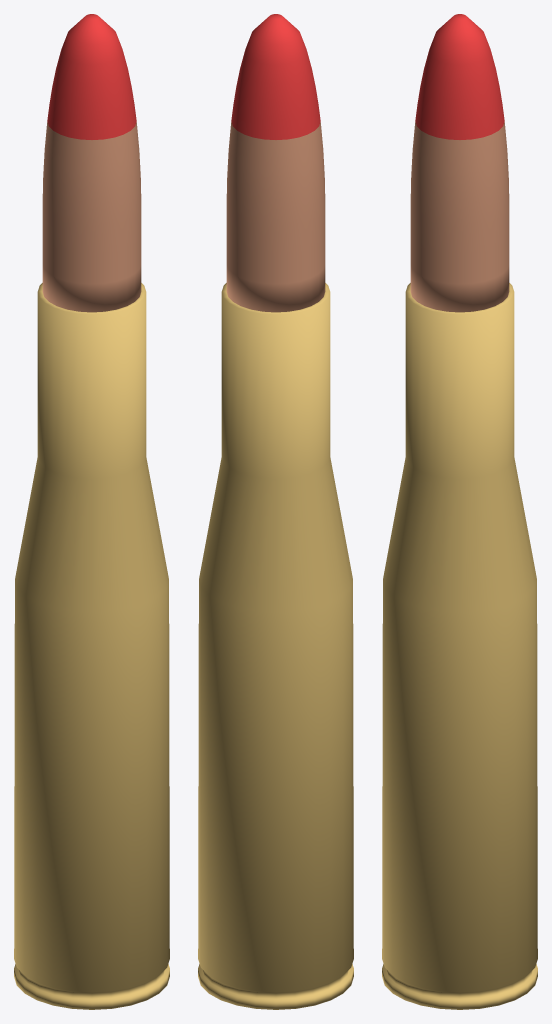
File: 50bmg_tr.glb
3 renders of one model, left to right at view 1: azimuth 30°, elevation 25°; view 2: azimuth 150°, elevation 25°; view 3: azimuth 270°, elevation 25°, orthographic.
Visible parts, largest first — view 1: vaina, bala_cuerpo, punta; view 2: vaina, bala_cuerpo, punta; view 3: vaina, bala_cuerpo, punta.
Boxes of the visible parts, bbox=[...] form: vaina: bbox=[14, 283, 169, 1009]; bala_cuerpo: bbox=[42, 122, 141, 312]; punta: bbox=[47, 14, 136, 139]; vaina: bbox=[198, 283, 353, 1009]; bala_cuerpo: bbox=[226, 122, 325, 312]; punta: bbox=[231, 14, 320, 139]; vaina: bbox=[382, 283, 537, 1009]; bala_cuerpo: bbox=[410, 122, 509, 312]; punta: bbox=[415, 14, 504, 139].
Size of the model in its own units: 0.0204 by 0.1388 by 0.0204.
